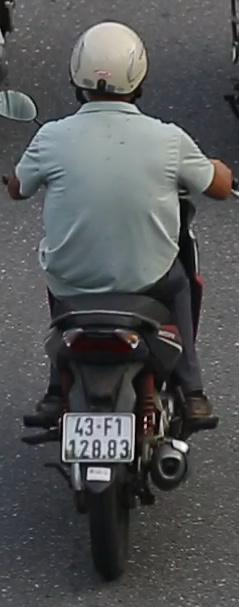LP: (59, 408, 136, 464)
helmet: (65, 14, 152, 121)
